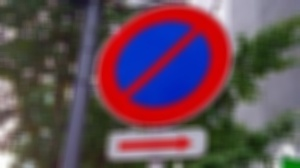Prohibition_sign: (90, 4, 236, 130)
